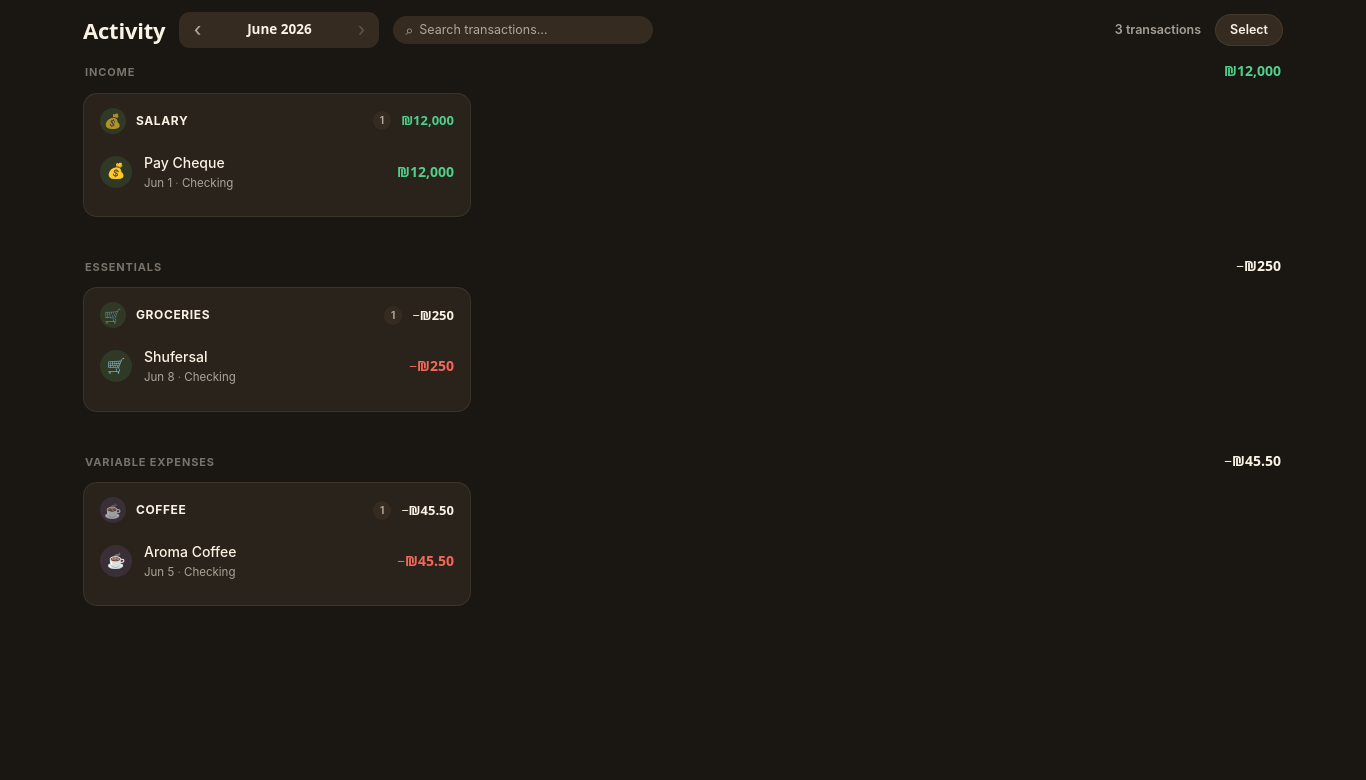
Test: ActivityView — search › typing a query switches to a cross-month flat list
Expected: the text "Pay Cheque" is shown, [144,154,225,170]
Expected: the text "Old purchase" is not shown
Type "purchase" into the search field with placeholder "Search transactions…" at [530, 30], box [419,21,642,39]
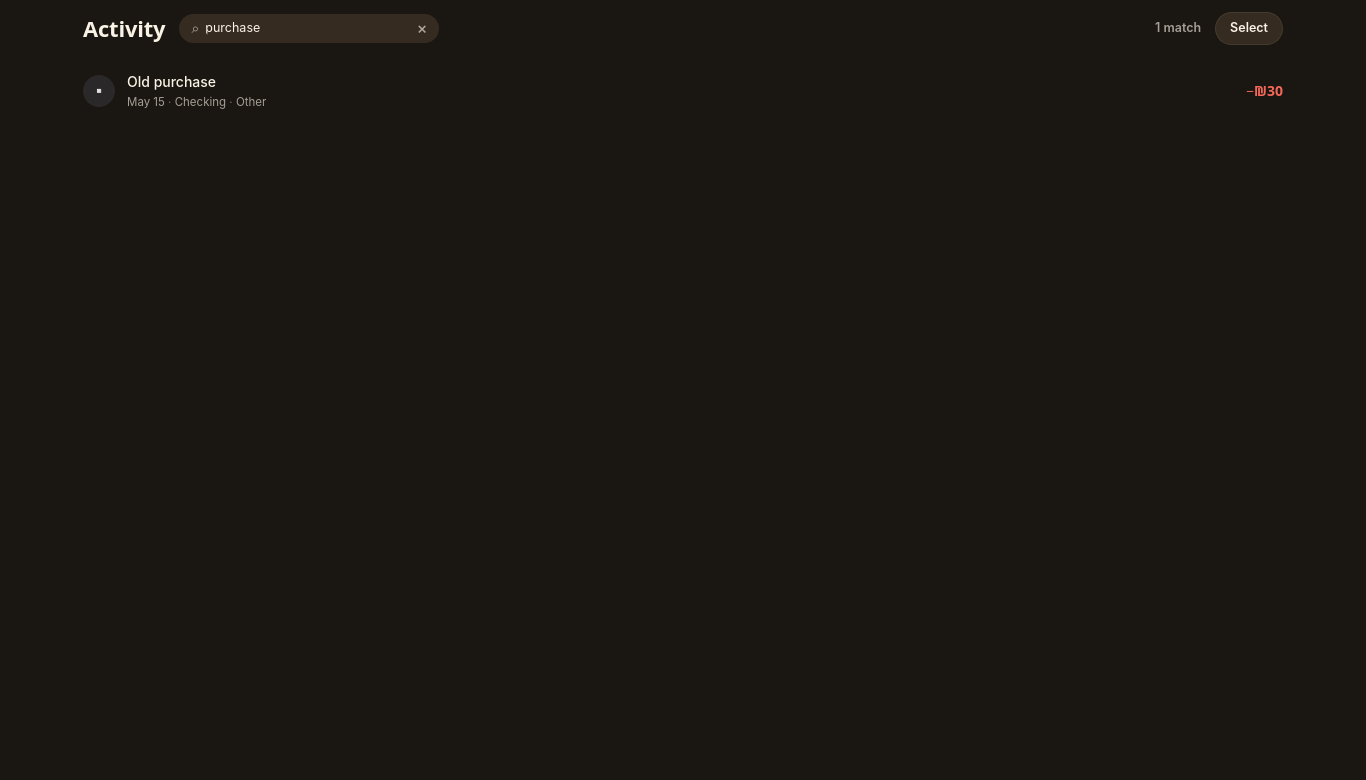
Now the text "Old purchase" is shown, box [127,73,216,90]
Now the text "Salary" is gone
